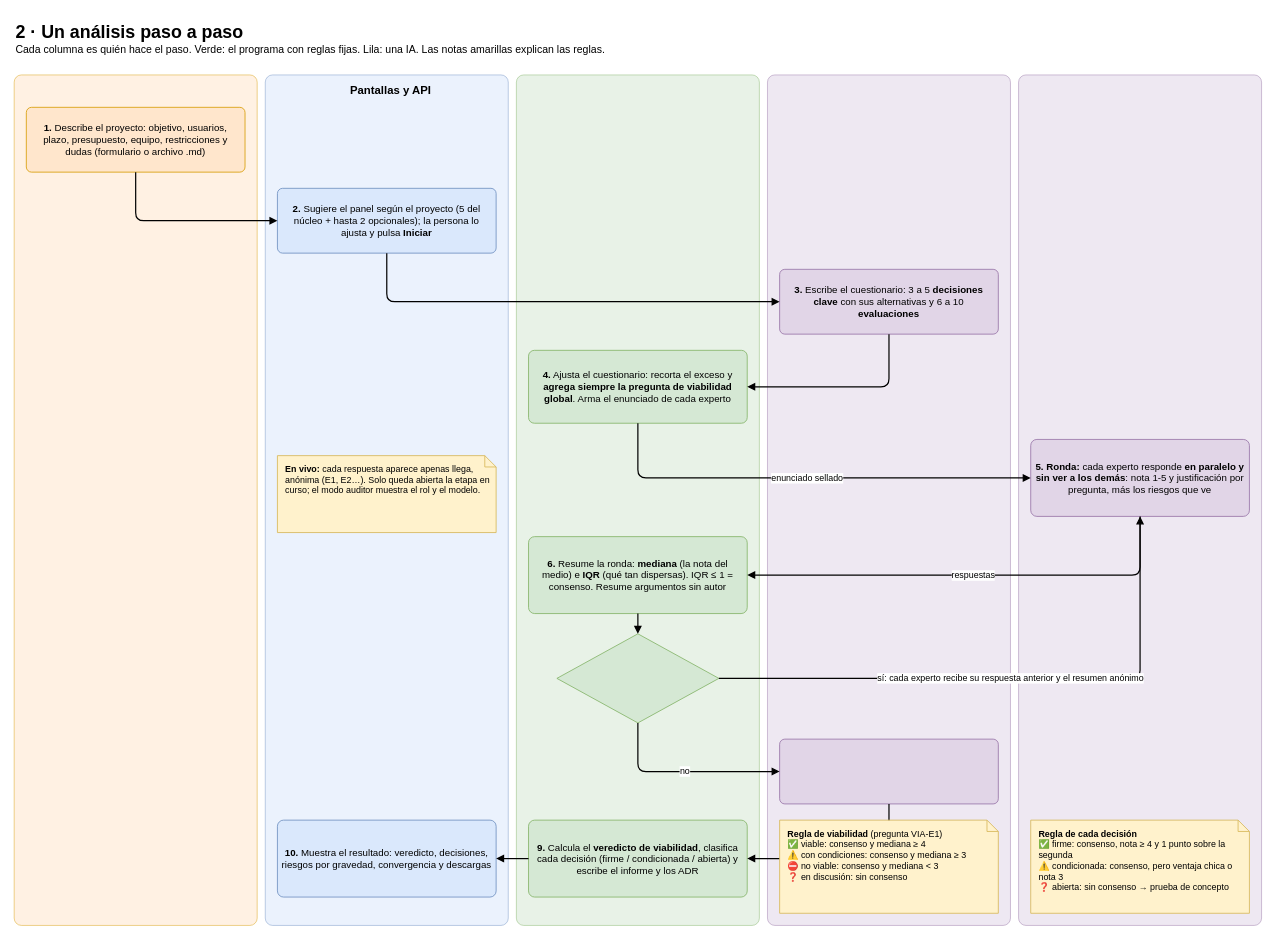
This 1276x940 diagram has some shape labels left out. Here are the shapes that lost their labels. From the top down, the box of each, then its label:
(13, 74, 257, 925): Persona
(516, 74, 759, 925): Motor (código)
(767, 74, 1010, 925): Moderador (IA)
(1018, 74, 1262, 925): Expertos (IA)
(556, 633, 719, 723): 7. ¿Otra ronda? mín. 2 · máx. 3 consenso ≥ 80 %
(779, 738, 998, 804): 8. Agrupa los riesgos que señalaron los expertos y estima probabilidad e impacto
